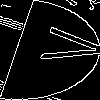V: (24, 25, 100, 67)
